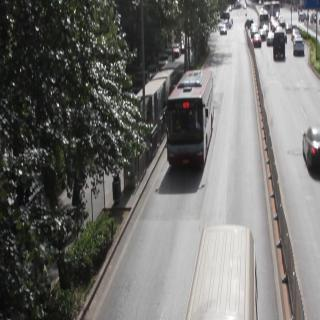BigCar: (189, 208, 263, 320), (165, 71, 226, 181), (252, 5, 270, 36)
Car: (301, 120, 320, 179), (272, 32, 289, 67), (249, 29, 265, 49), (292, 38, 305, 61)
